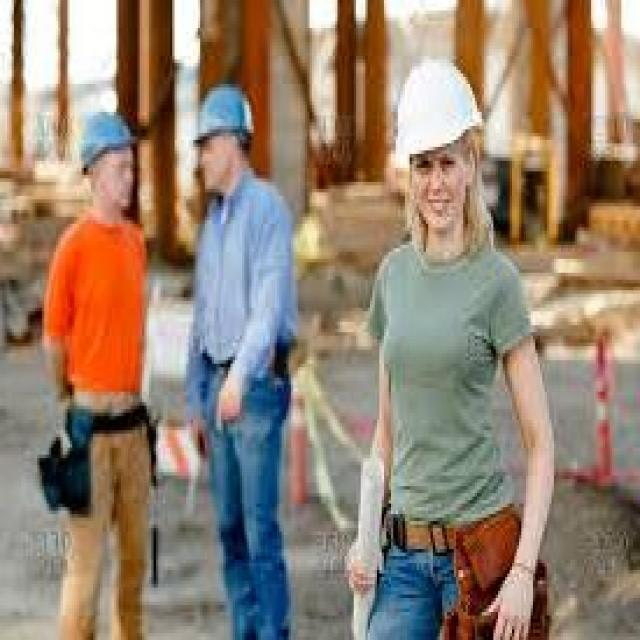NoVest: (360, 242, 526, 510), (191, 186, 300, 376)
